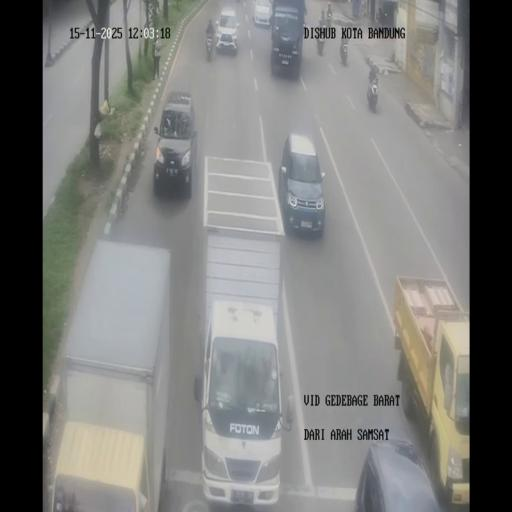car: (197, 295, 286, 503), (278, 132, 324, 238), (152, 90, 198, 196), (270, 2, 306, 78), (215, 5, 240, 55), (252, 0, 272, 28)
motorcycle: (366, 72, 379, 111), (316, 30, 325, 56), (206, 31, 213, 61), (339, 40, 347, 64), (376, 5, 386, 23), (326, 10, 332, 27)
truck: (54, 242, 174, 508), (392, 277, 468, 506)
